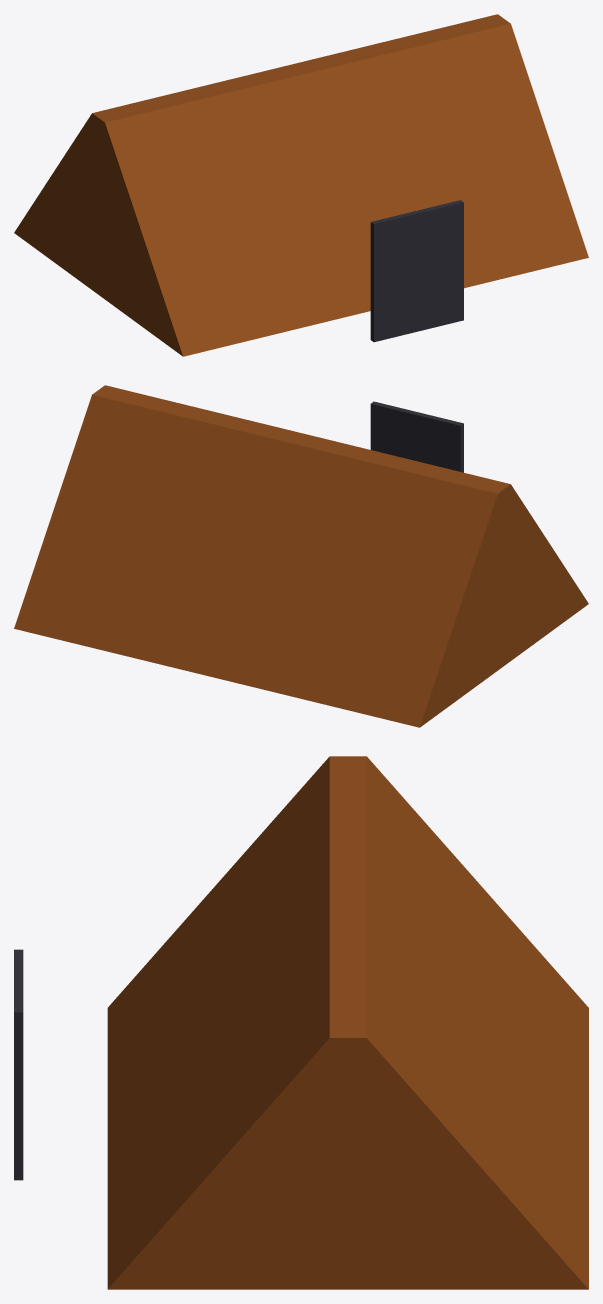
Rendered from nomad_tent.fbx.
3 views of the same model, one above another, from view 1: azimuth 30°, elevation 25°; view 2: azimuth 150°, elevation 25°; view 3: azimuth 270°, elevation 25° (orthographic). The views are drawn at different scales.
Visible parts, largest first — view 1: nomad_tent; view 2: nomad_tent; view 3: nomad_tent.
Part boxes in pixels (x1,y1,x2,y2): nomad_tent: [14, 14, 588, 356]; nomad_tent: [14, 385, 588, 727]; nomad_tent: [14, 756, 588, 1289].
Bounding box in the file's own units: 3.6 × 1.5 × 3.1.
